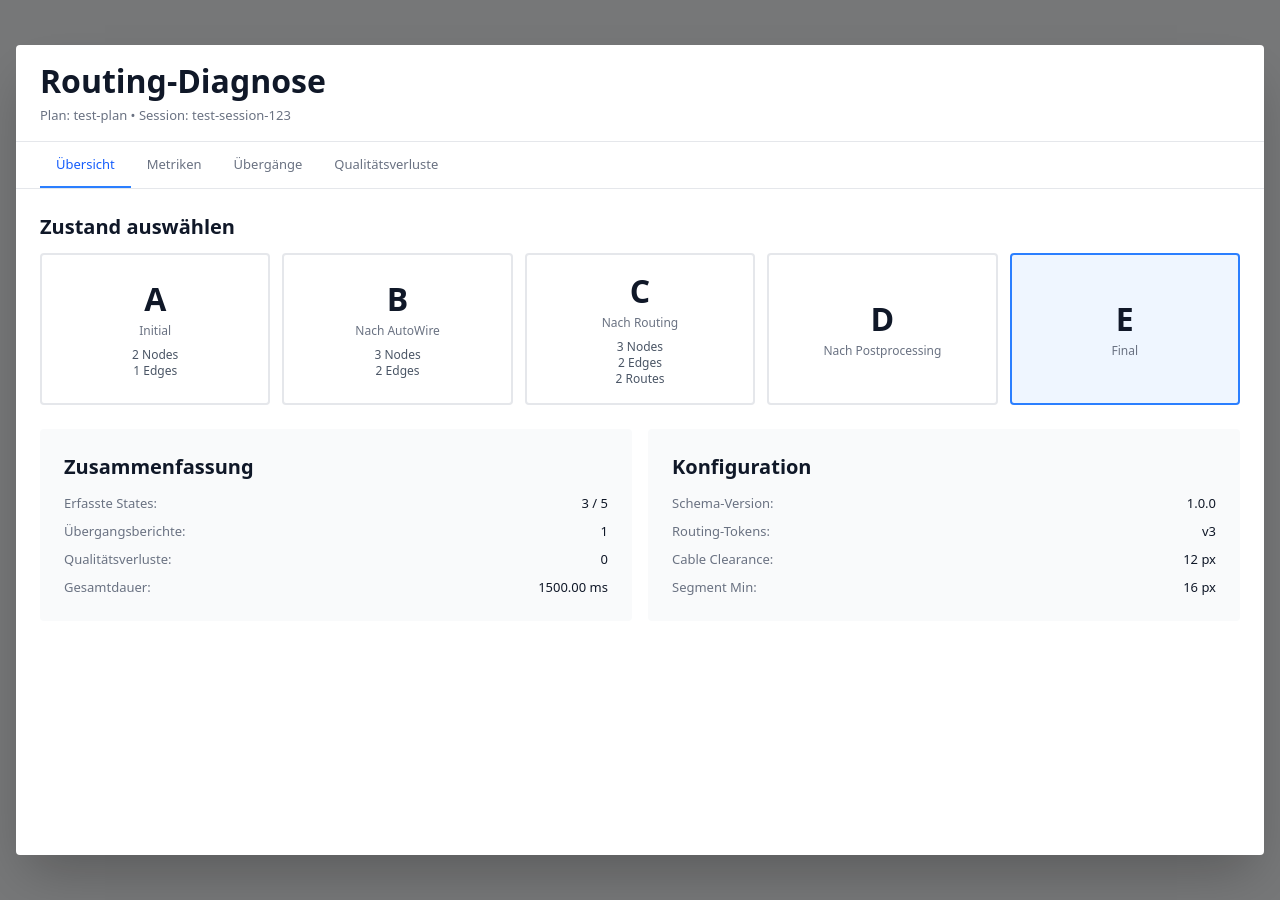
it: DiagnosticViewer › should display transitions when switching to transitions tab
The width and height of the screenshot is (1280, 900).
Click the button "Übergänge" at point(268, 165), box 218,142 -> 318,188
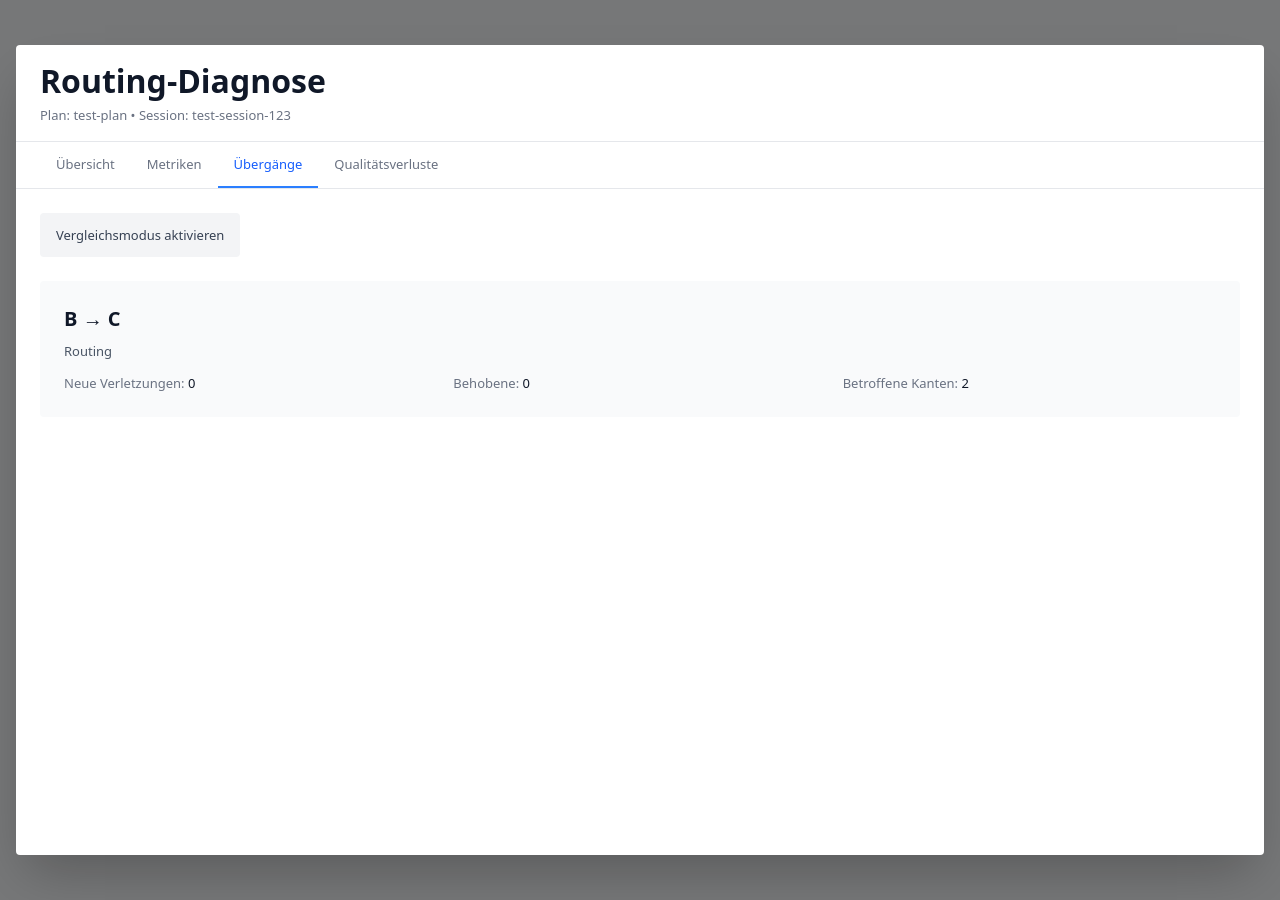
Expected: the text "Routing" is shown, 64,342 -> 112,360
Now the heading "B → C" is shown, box 64,305 -> 121,332
